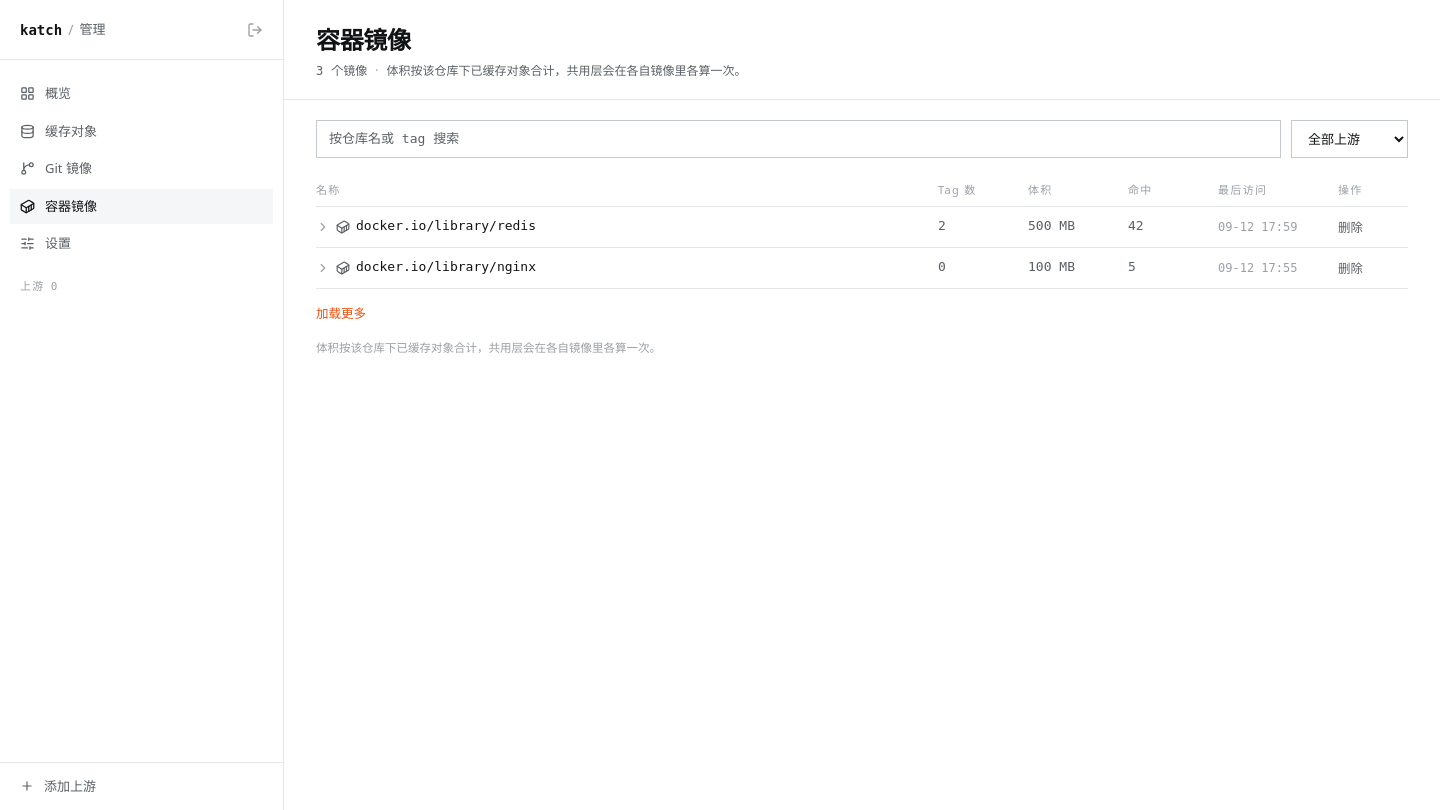
Test case: 后台 · 容器镜像 › 每页超出时显示加载更多，点击后追加下一批
Expected: the table named "容器镜像" is shown, [316,174,1408,289]
Expected: the row "docker.io/library/nginx 0 100 MB 5 09-12 17:55 删除" is shown, [316,247,1408,288]
Click the button "加载更多": {"x": 341, "y": 314} [316,305,366,324]
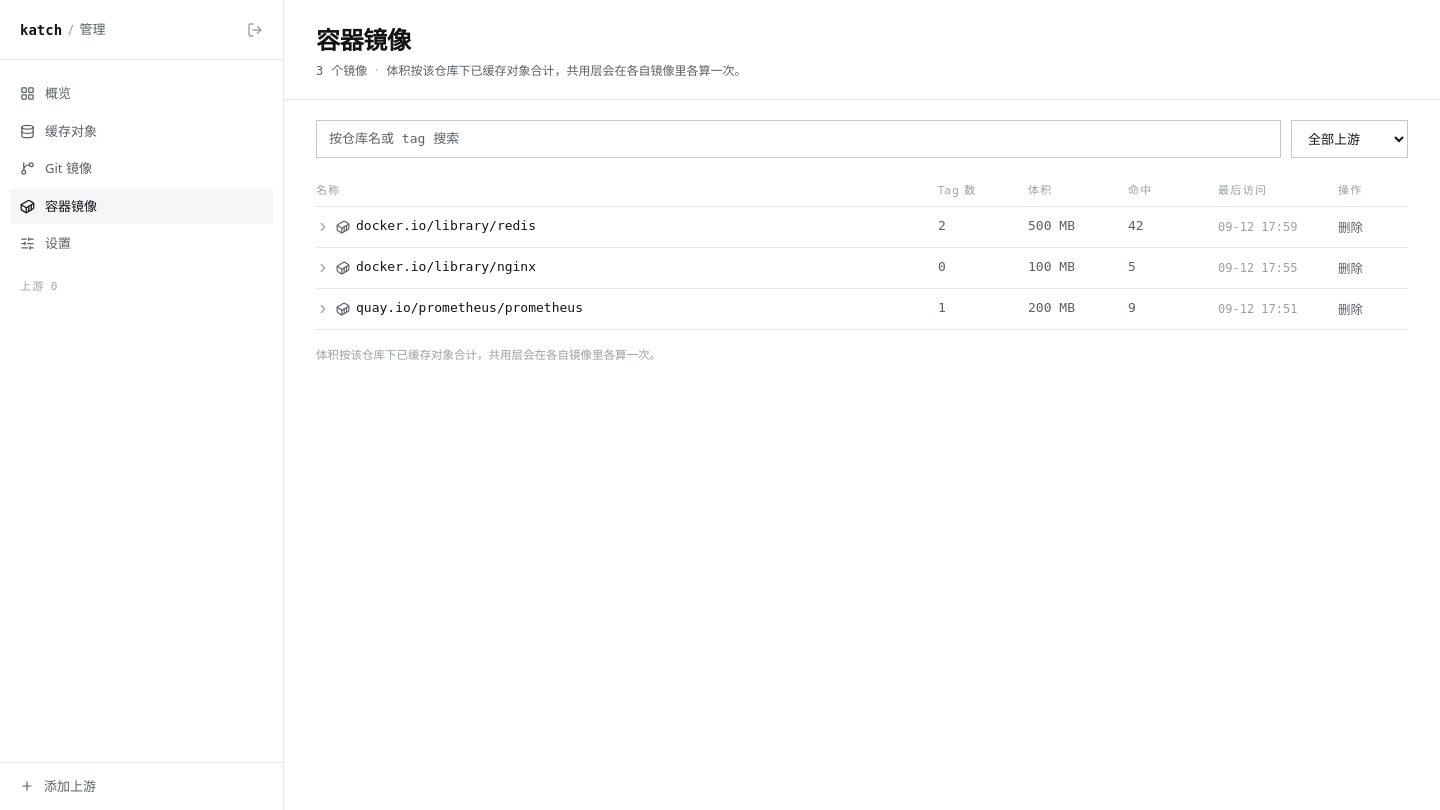
Now the row "quay.io/prometheus/prometheus 1 200 MB 9 09-12 17:51 删除" is shown, box [316,288,1408,329]
